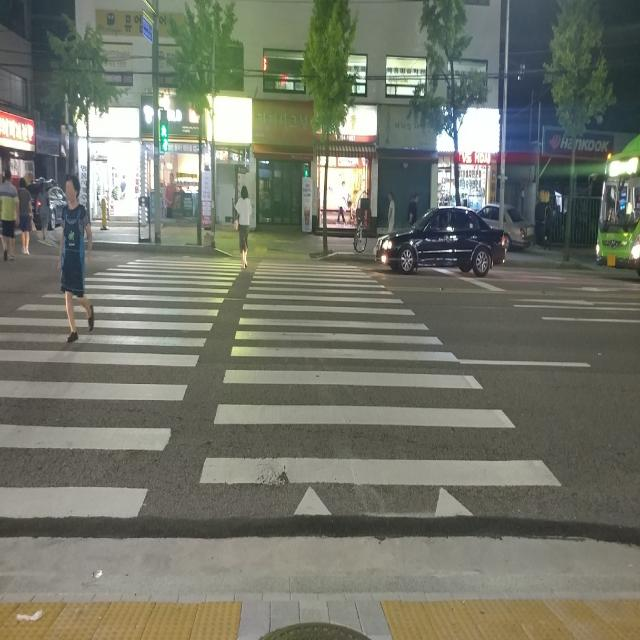초록불: (160, 111, 168, 153)
횡단보도: (0, 254, 563, 523)
